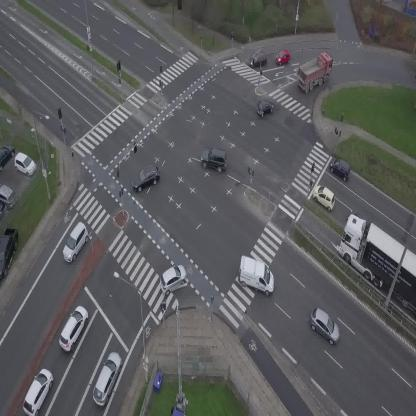car: (88, 349, 126, 407), (18, 366, 57, 416), (55, 303, 93, 354), (303, 306, 347, 346), (56, 221, 94, 264), (153, 260, 192, 296), (127, 162, 164, 193), (198, 146, 231, 174), (309, 183, 340, 212), (326, 154, 356, 182), (254, 97, 276, 118), (247, 50, 269, 68), (273, 48, 292, 66), (349, 210, 370, 221)
lorry: (290, 48, 341, 95), (232, 255, 281, 296)
